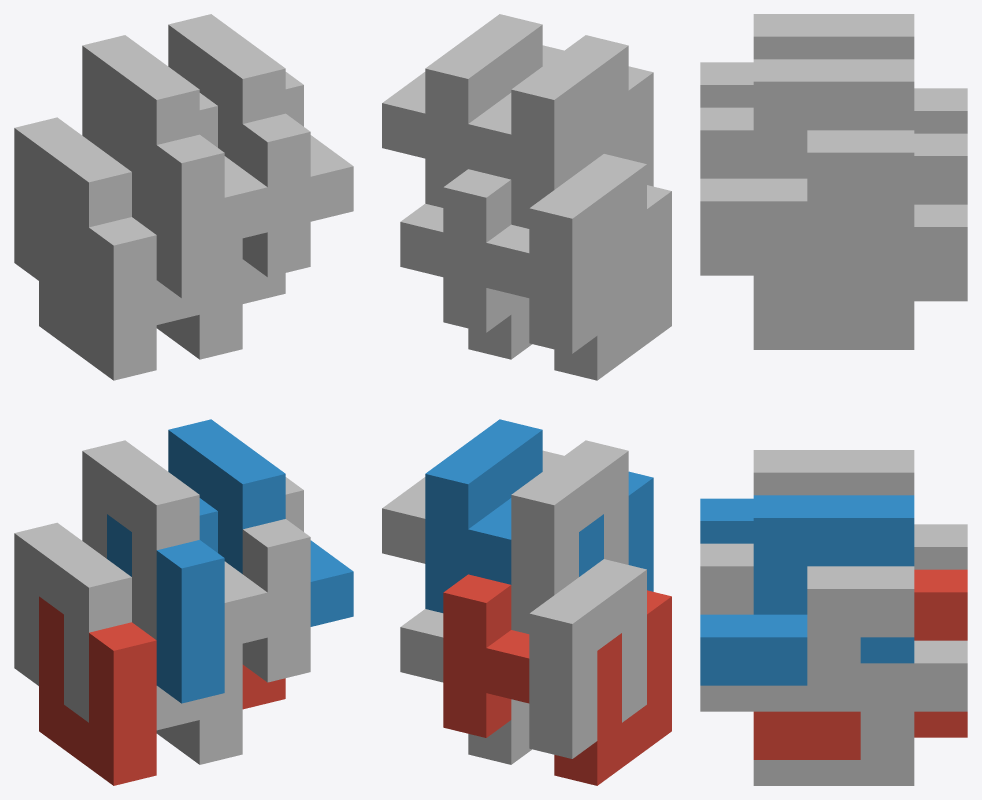
Rendered from tiling.obj.
3 renders of one model, left to right at view 1: azimuth 30°, elevation 25°; view 2: azimuth 150°, elevation 25°; view 3: azimuth 270°, elevation 25°, orthographic. The views are drawn at different scales.
Parts seen in each view (by area): view 1: copy_2_domain_2, copy_2_domain_4, copy_1_domain_1, copy_1_domain_3, copy_2_domain_3, copy_2_domain_1, copy_2_domain_6, copy_2_domain_8, copy_1_domain_2, copy_1_domain_4, copy_1_domain_8, copy_1_domain_6 (+4 smaller); view 2: copy_2_domain_1, copy_2_domain_3, copy_2_domain_2, copy_2_domain_4, copy_1_domain_3, copy_1_domain_1, copy_2_domain_6, copy_2_domain_8, copy_2_domain_5, copy_2_domain_7, copy_1_domain_2, copy_1_domain_4 (+4 smaller); view 3: copy_2_domain_6, copy_2_domain_8, copy_1_domain_6, copy_1_domain_8, copy_1_domain_5, copy_1_domain_7, copy_2_domain_5, copy_2_domain_7, copy_2_domain_2, copy_2_domain_4, copy_1_domain_2, copy_1_domain_4 (+2 smaller).
Part boxes in pixels (x1,y1,x2,y2): copy_2_domain_2: (82, 440, 267, 647); copy_2_domain_4: (82, 35, 267, 242); copy_1_domain_1: (39, 596, 156, 785); copy_1_domain_3: (39, 191, 156, 380); copy_2_domain_3: (14, 117, 199, 324); copy_2_domain_1: (14, 522, 199, 730); copy_2_domain_6: (168, 419, 353, 626); copy_2_domain_8: (168, 14, 353, 221); copy_1_domain_2: (107, 498, 224, 703); copy_1_domain_4: (107, 93, 224, 298); copy_1_domain_8: (242, 72, 310, 277); copy_1_domain_6: (242, 477, 310, 682); copy_2_domain_1: (529, 559, 646, 758); copy_2_domain_3: (529, 154, 646, 353); copy_2_domain_2: (511, 440, 628, 633); copy_2_domain_4: (511, 35, 628, 228); copy_1_domain_3: (486, 185, 671, 380); copy_1_domain_1: (486, 590, 671, 785); copy_2_domain_6: (425, 419, 542, 612); copy_2_domain_8: (425, 14, 542, 207); copy_2_domain_5: (443, 574, 511, 737); copy_2_domain_7: (443, 169, 511, 332); copy_1_domain_2: (468, 471, 653, 591); copy_1_domain_4: (468, 66, 653, 186); copy_2_domain_6: (700, 495, 914, 685); copy_2_domain_8: (700, 59, 914, 249); copy_1_domain_6: (700, 543, 914, 711); copy_1_domain_8: (700, 107, 914, 275); copy_1_domain_5: (753, 640, 967, 785); copy_1_domain_7: (753, 204, 967, 349); copy_2_domain_5: (753, 569, 967, 759); copy_2_domain_7: (753, 133, 967, 323); copy_2_domain_2: (753, 450, 914, 495); copy_2_domain_4: (753, 14, 914, 59); copy_1_domain_2: (700, 498, 753, 543); copy_1_domain_4: (700, 62, 753, 107).
Size of the model in its own units: 5 by 15 by 5.
